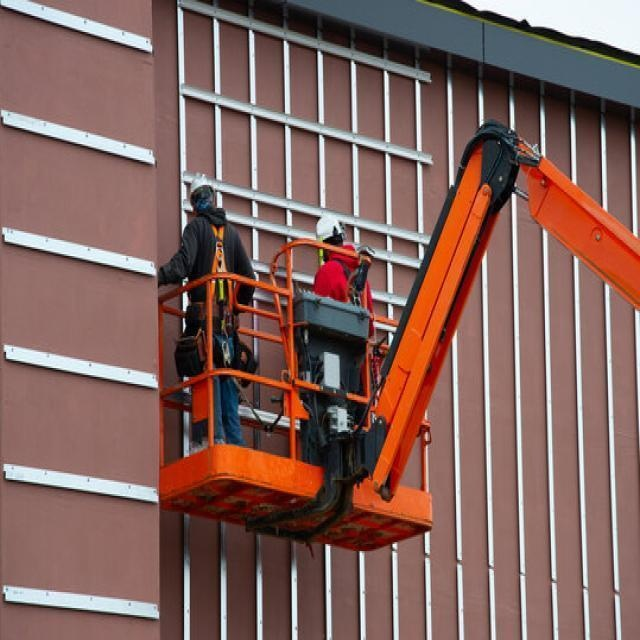Arnes_seguridad: (194, 218, 241, 344), (327, 247, 373, 341)
